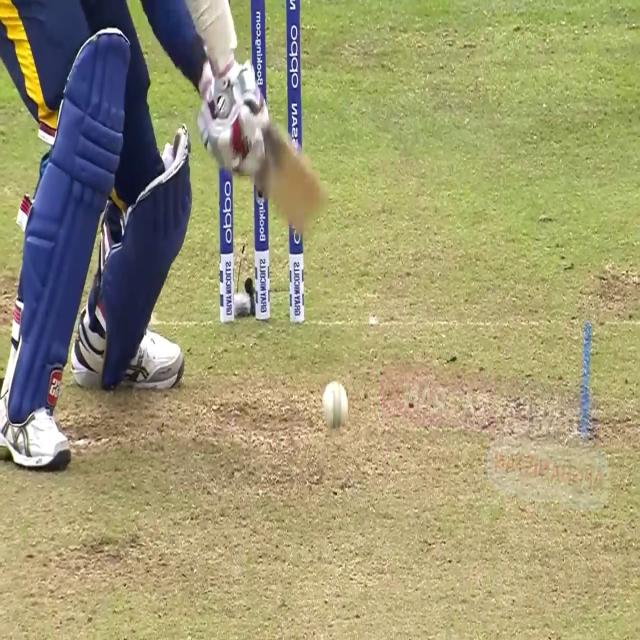ball: (320, 377, 351, 432)
